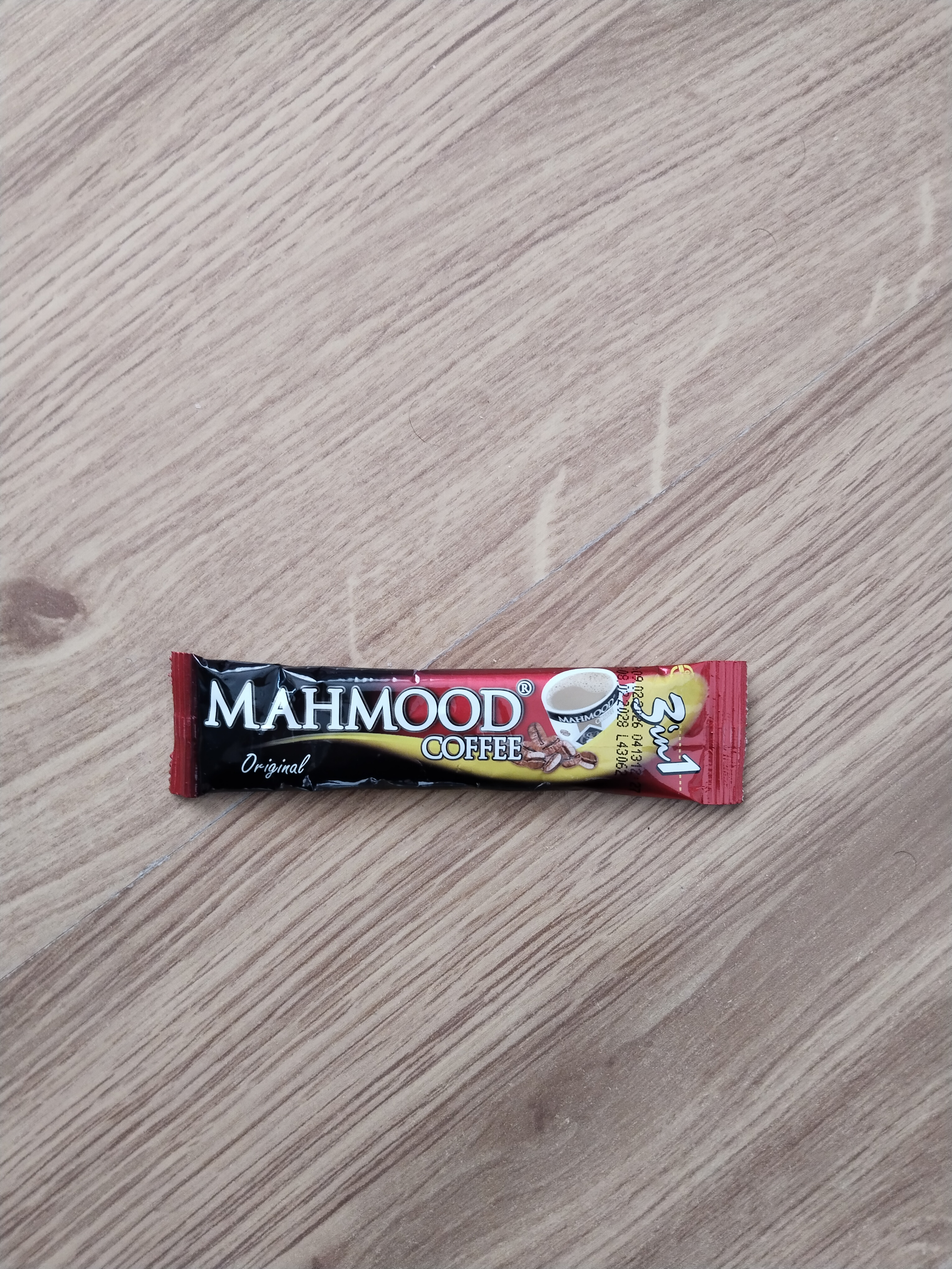mahmood_kahve: (169, 650, 750, 811)
